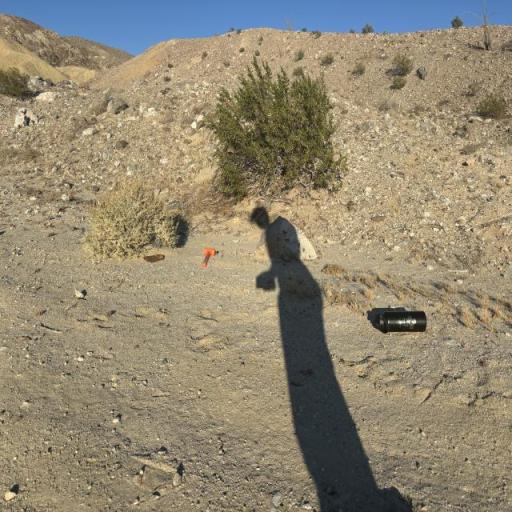mallet: (198, 242, 216, 276)
